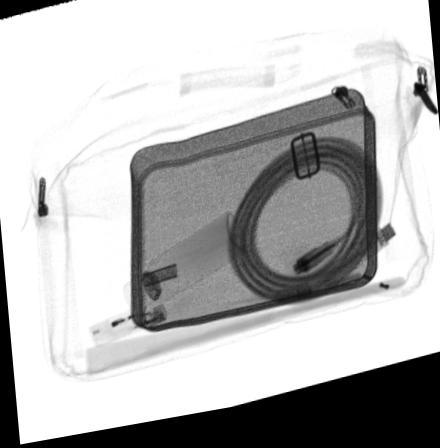Lighter: (87, 306, 167, 352)
Sprayer: (120, 216, 244, 322)
